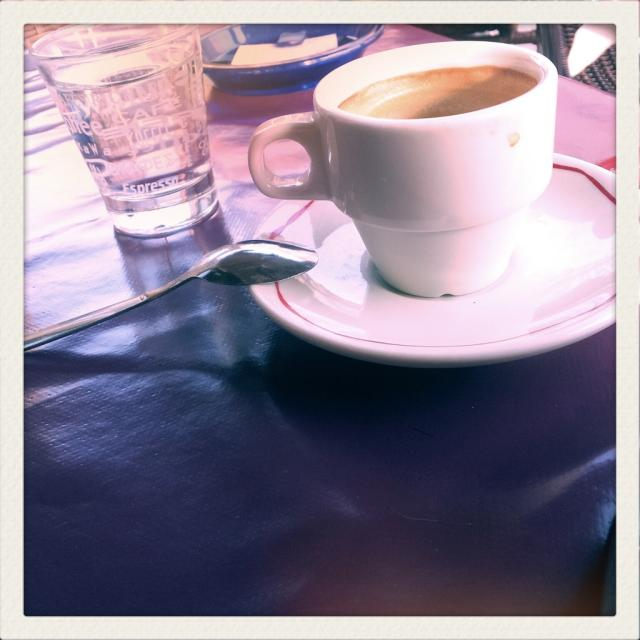Coffee: (248, 35, 562, 299), (338, 65, 538, 124)
Tea: (248, 35, 562, 299), (340, 64, 537, 115)
